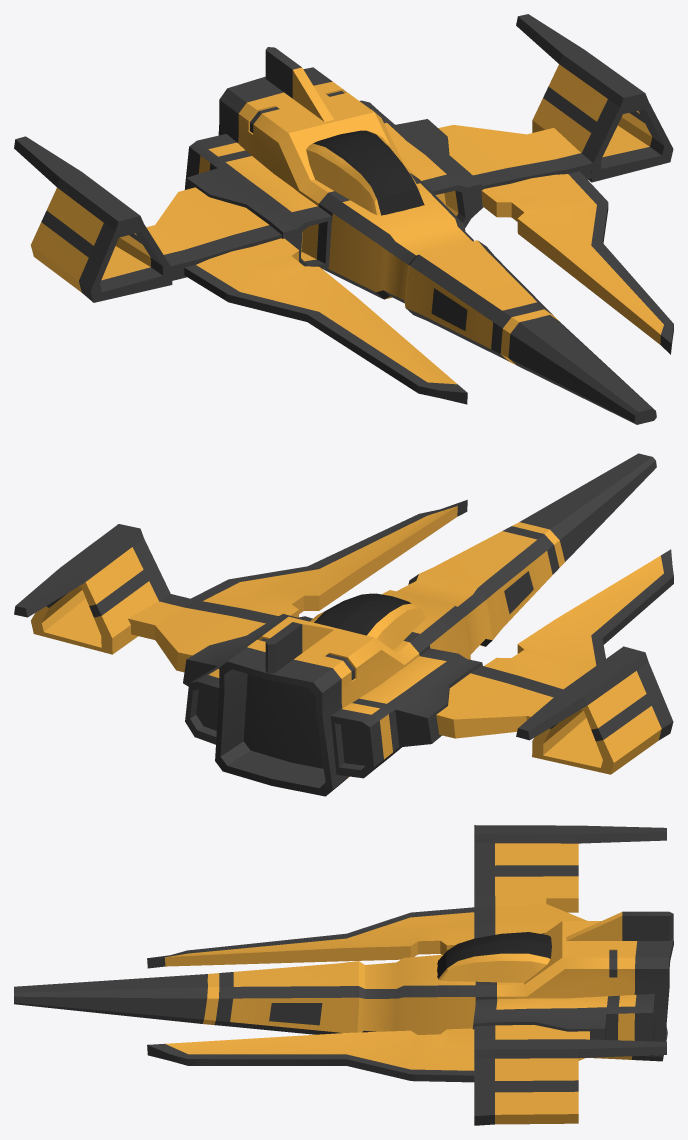
Rendered from SpaceshipB_9.glb.
3 renders of one model, top to bottom at view 1: azimuth 30°, elevation 25°; view 2: azimuth 150°, elevation 25°; view 3: azimuth 270°, elevation 25°, orthographic. The views are drawn at different scales.
Parts seen in each view (by area): view 1: Spaceship_RaeTheRedPanda; view 2: Spaceship_RaeTheRedPanda; view 3: Spaceship_RaeTheRedPanda.
Boxes of the visible parts, bbox=[...] form: Spaceship_RaeTheRedPanda: bbox=[14, 14, 673, 424]; Spaceship_RaeTheRedPanda: bbox=[14, 453, 673, 796]; Spaceship_RaeTheRedPanda: bbox=[14, 825, 673, 1125].
Bounding box in the file's own units: 9.95 × 2.35 × 11.17.
1 material, 1 textured.
